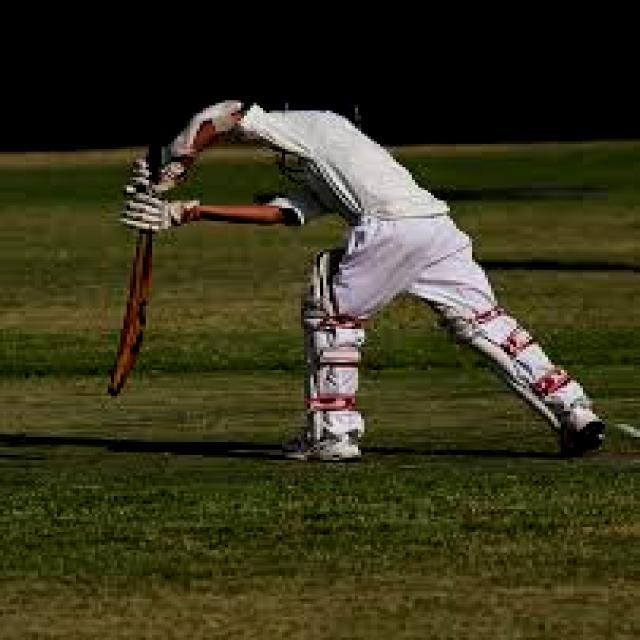bat: (106, 221, 152, 402)
toe: (87, 382, 139, 402)
